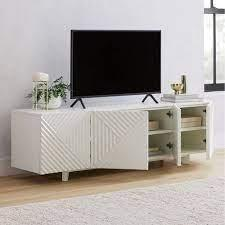TV: (71, 26, 166, 98)
console: (3, 96, 214, 183)
